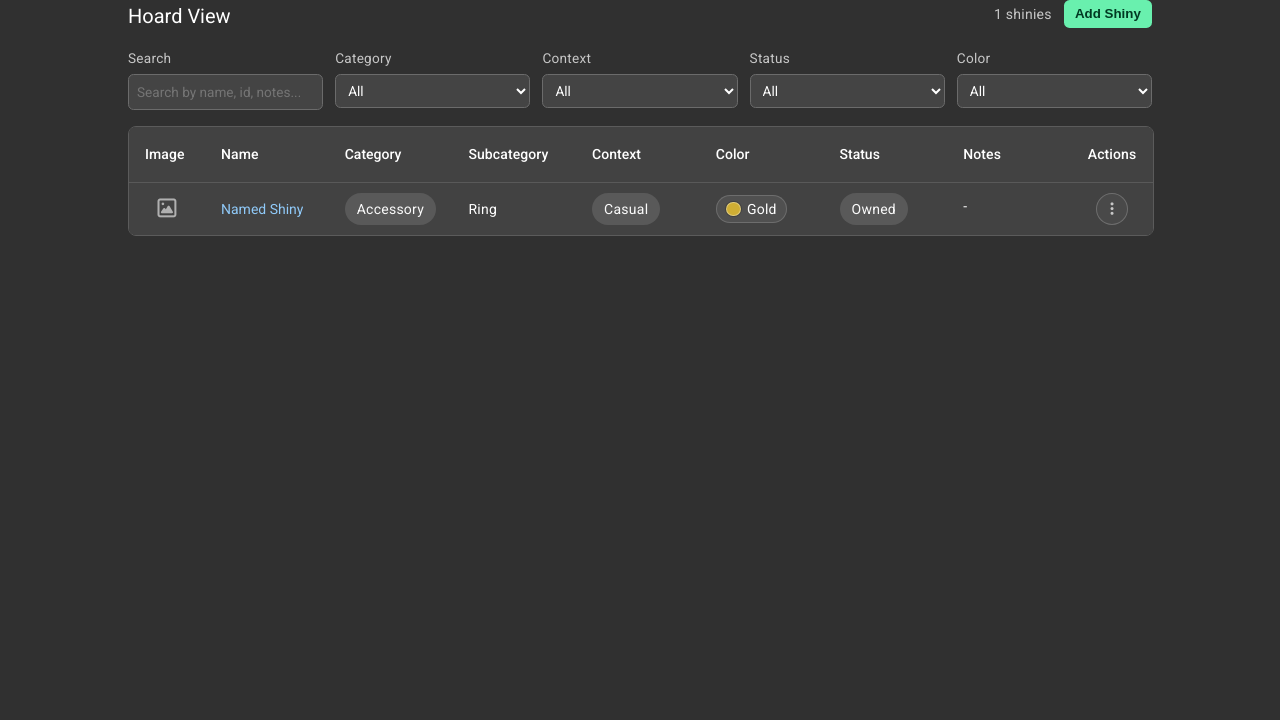
HoardViewComponent › opens detail modal when shiny name is clicked
Click the button with class "name-button".
click(262, 209)  # box [221,199,304,219]
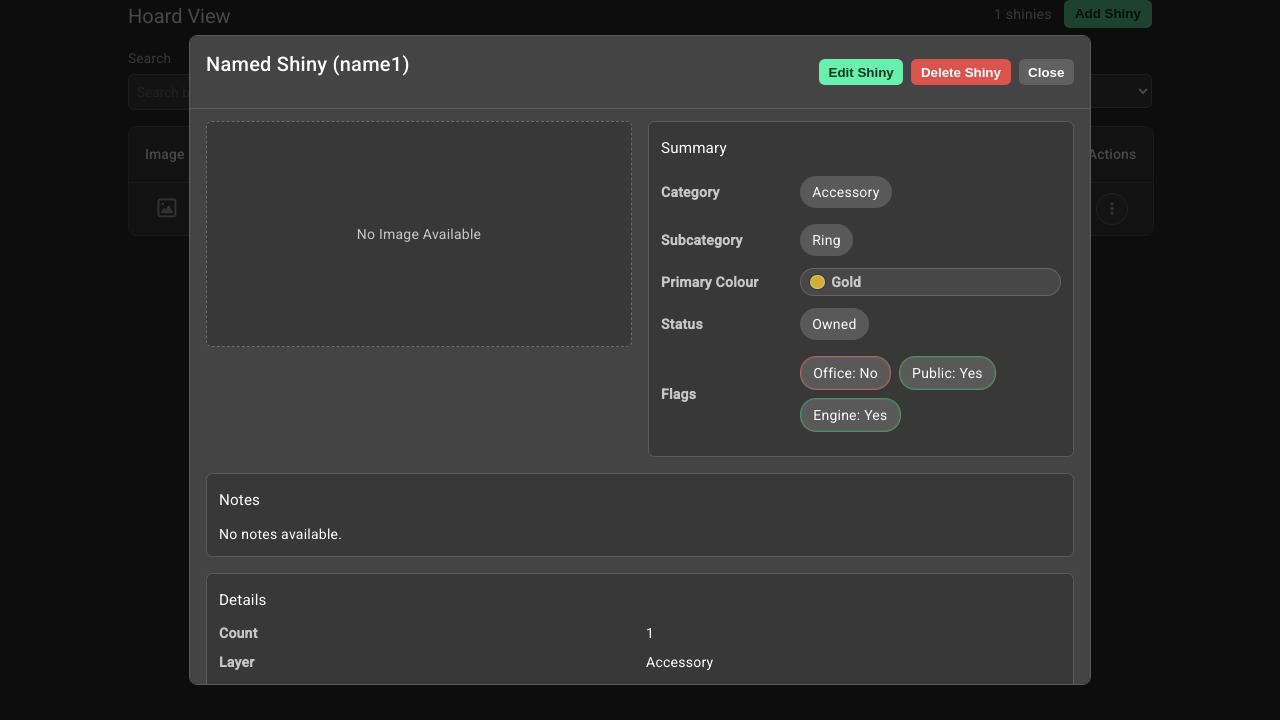
Expected: the dialog with class "image-modal" is shown
